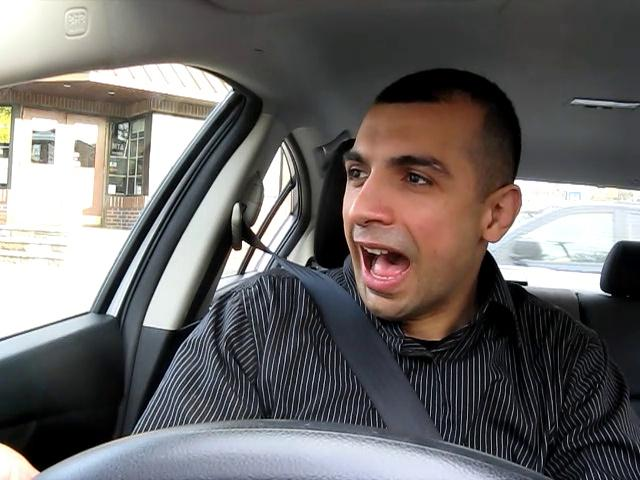open_eyeL: (338, 159, 378, 187)
open_eyeR: (386, 162, 448, 195)
yawn: (337, 234, 427, 295)
